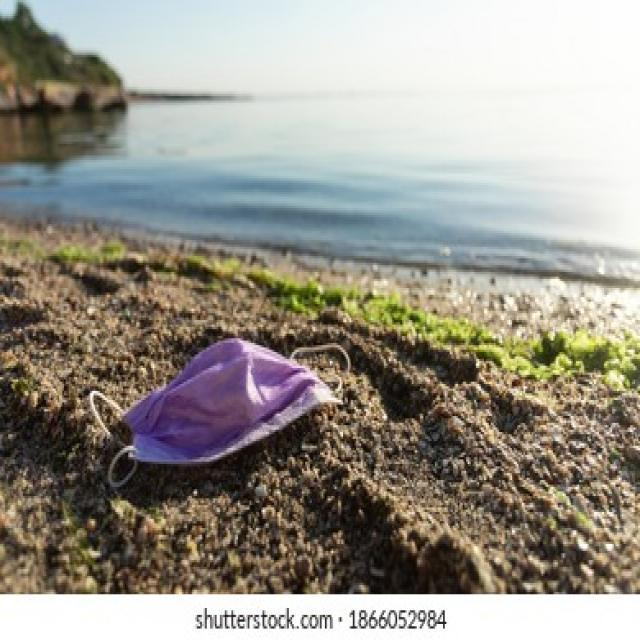face mask: (95, 332, 350, 489)
